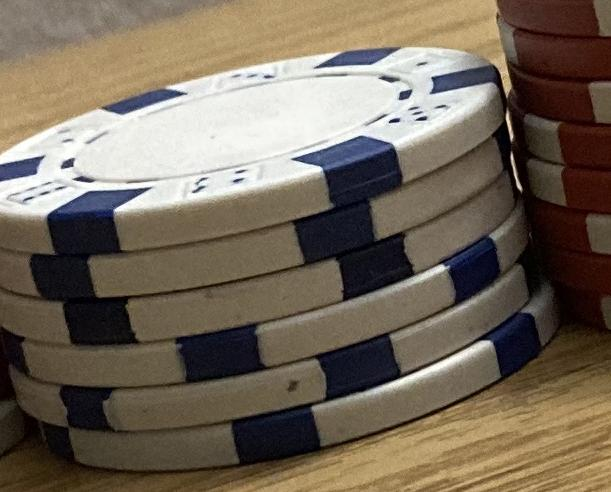Chip: (1, 1, 611, 492)
